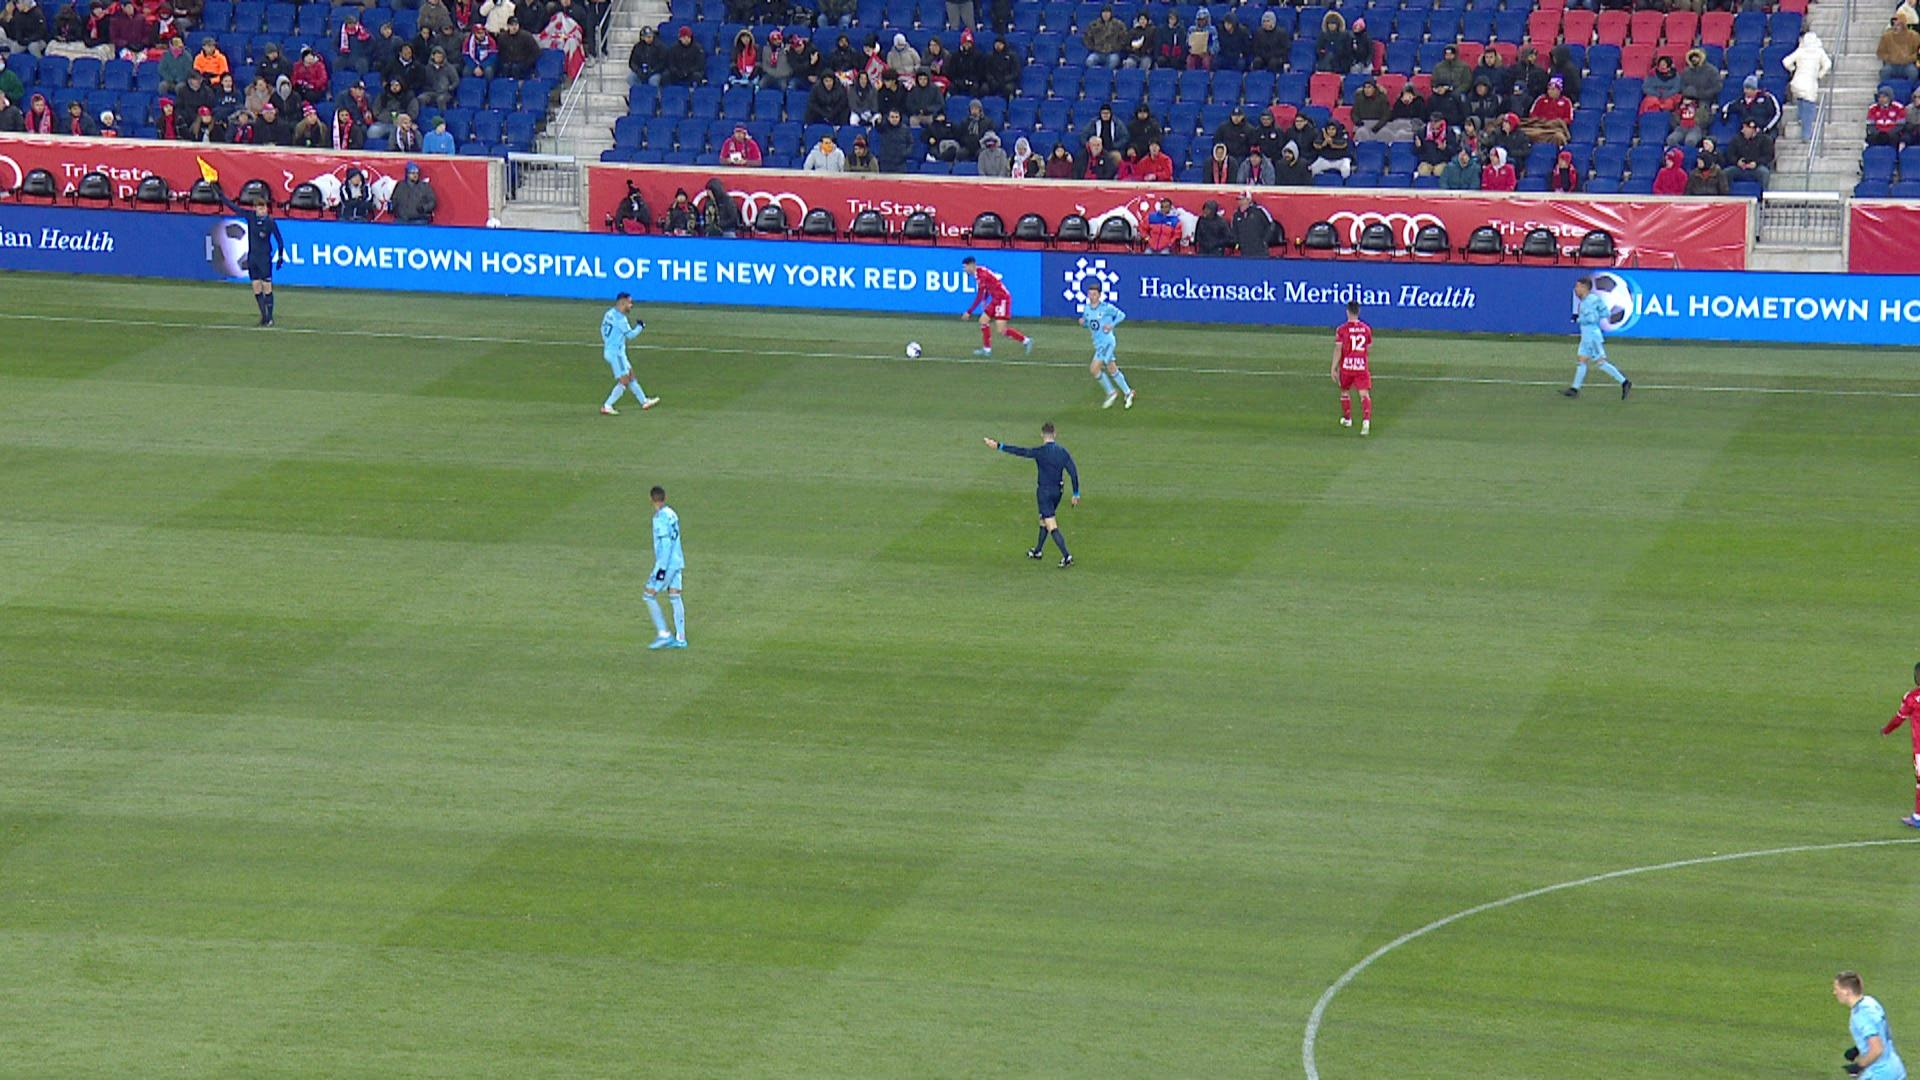football: (905, 340, 923, 359)
